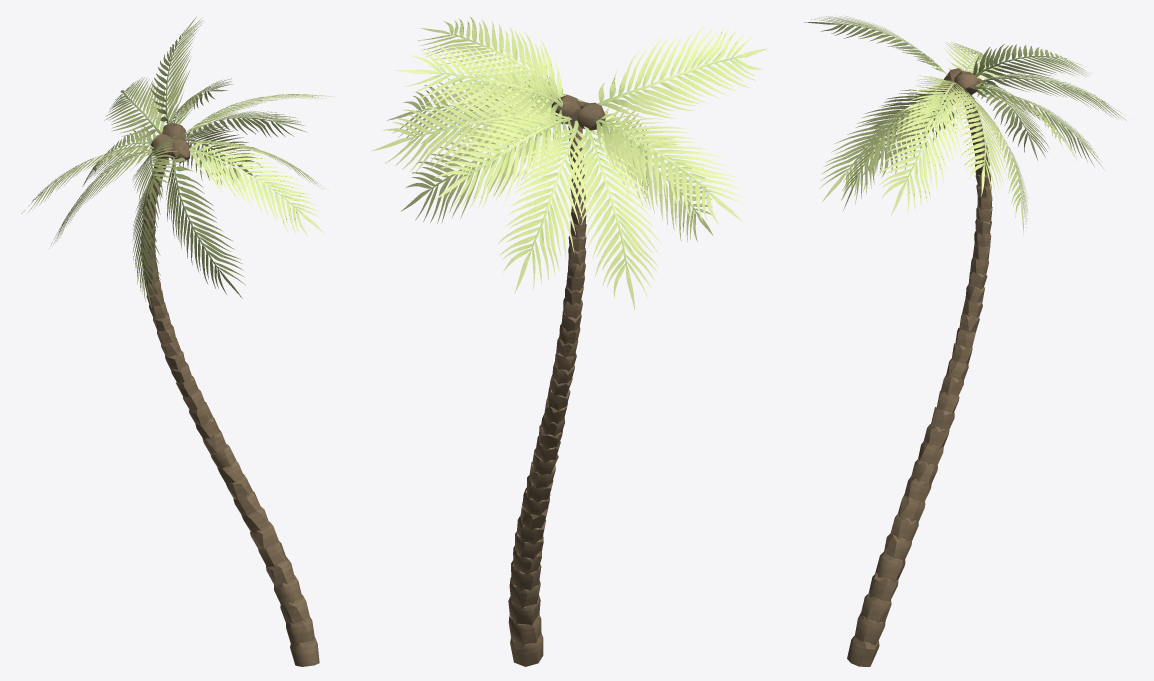
File: coconut tree1.fbx
The picture shows the model from 3 angles, left to right: view 1: azimuth 30°, elevation 25°; view 2: azimuth 150°, elevation 25°; view 3: azimuth 270°, elevation 25°; orthographic projection. The views are drawn at different scales.
Visible parts, largest first — view 1: leaf.064, trunk.003, fruit.002; view 2: leaf.064, trunk.003, fruit.002; view 3: leaf.064, trunk.003, fruit.002.
Boxes of the visible parts, bbox=[...] form: leaf.064: bbox=[21, 16, 332, 311]; trunk.003: bbox=[140, 157, 319, 666]; fruit.002: bbox=[151, 123, 190, 162]; leaf.064: bbox=[371, 17, 768, 310]; trunk.003: bbox=[508, 121, 586, 666]; fruit.002: bbox=[551, 95, 605, 130]; leaf.064: bbox=[804, 16, 1126, 235]; trunk.003: bbox=[847, 95, 992, 666]; fruit.002: bbox=[936, 68, 979, 105].
Size of the model in its own units: 717 by 1329 by 672.
